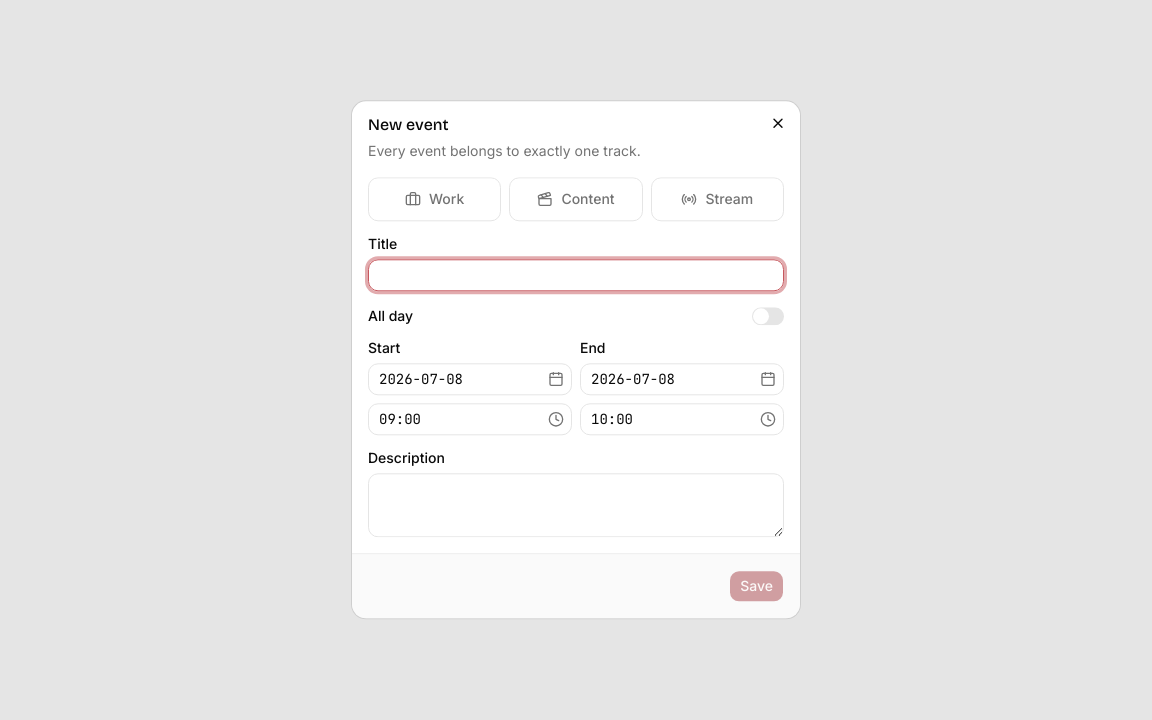
EventEditor — create mode › picking a start date in the calendar stores that exact day
The image size is (1152, 720).
Click the button named "Open starting day calendar" at (556, 380), box [544,368,568,392]
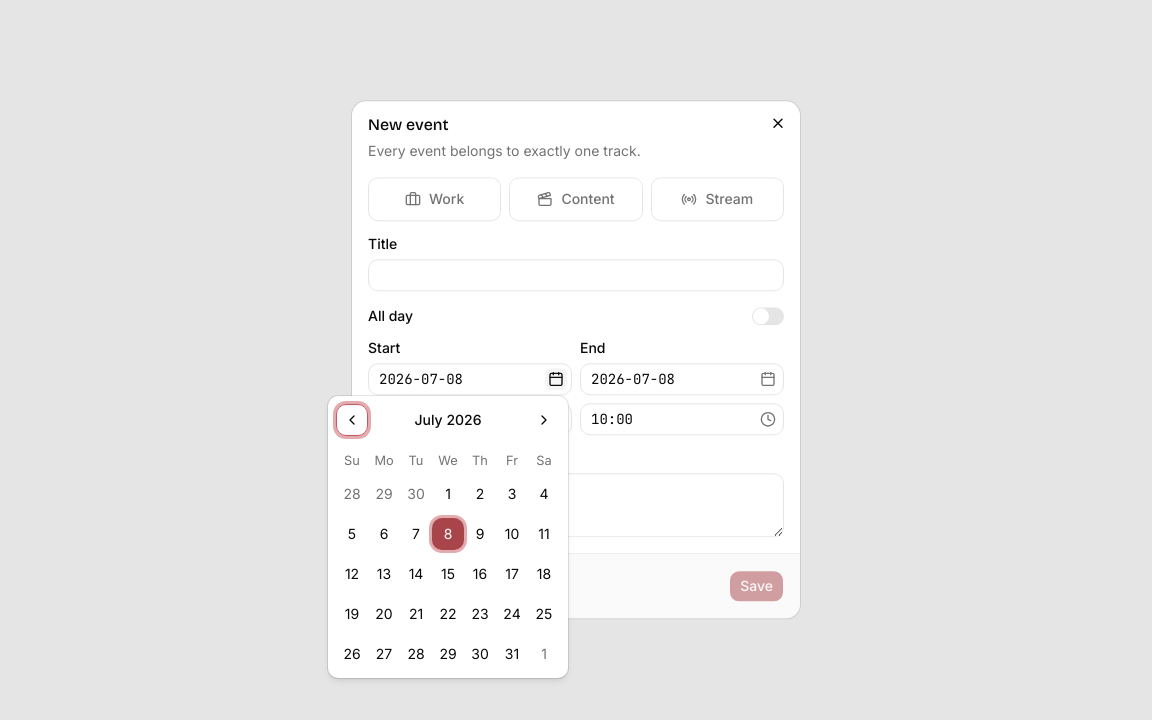
Click the button named "Monday, July 20th, 2026" at (384, 614), box [368,598,400,630]
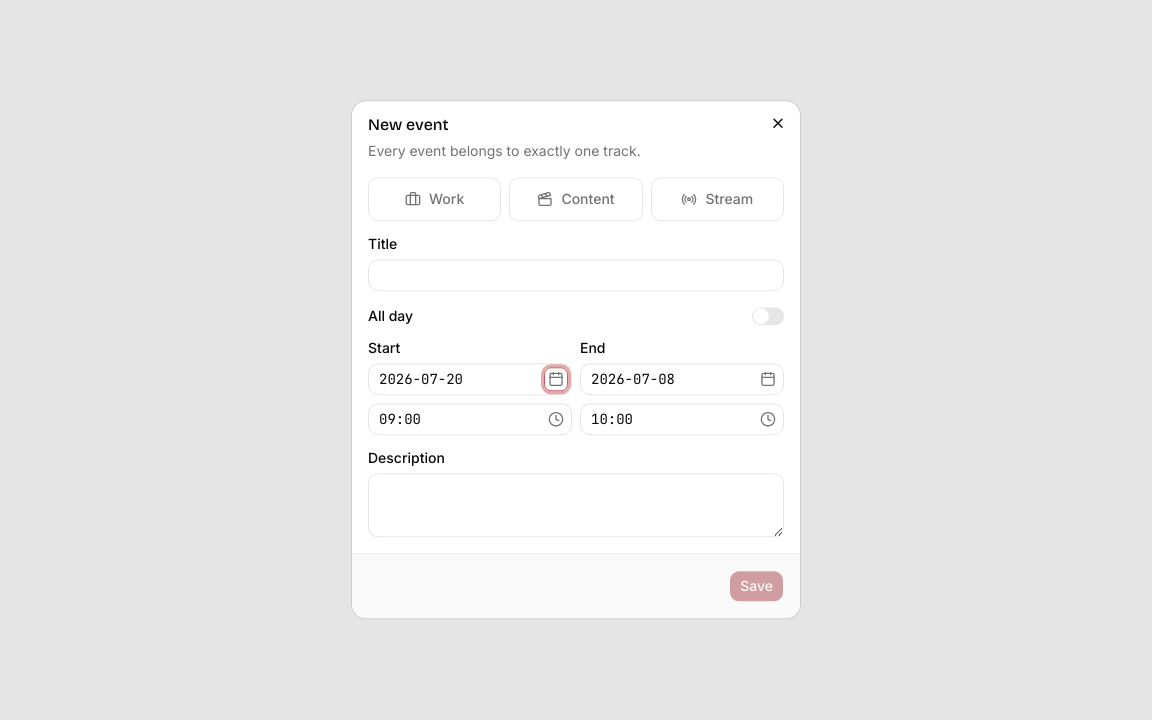
Expected: the field labelled "End" holds "2026-07-08", [581,364,756,396]
Expected: the field labelled "Start" holds "2026-07-20", [369,364,544,396]
